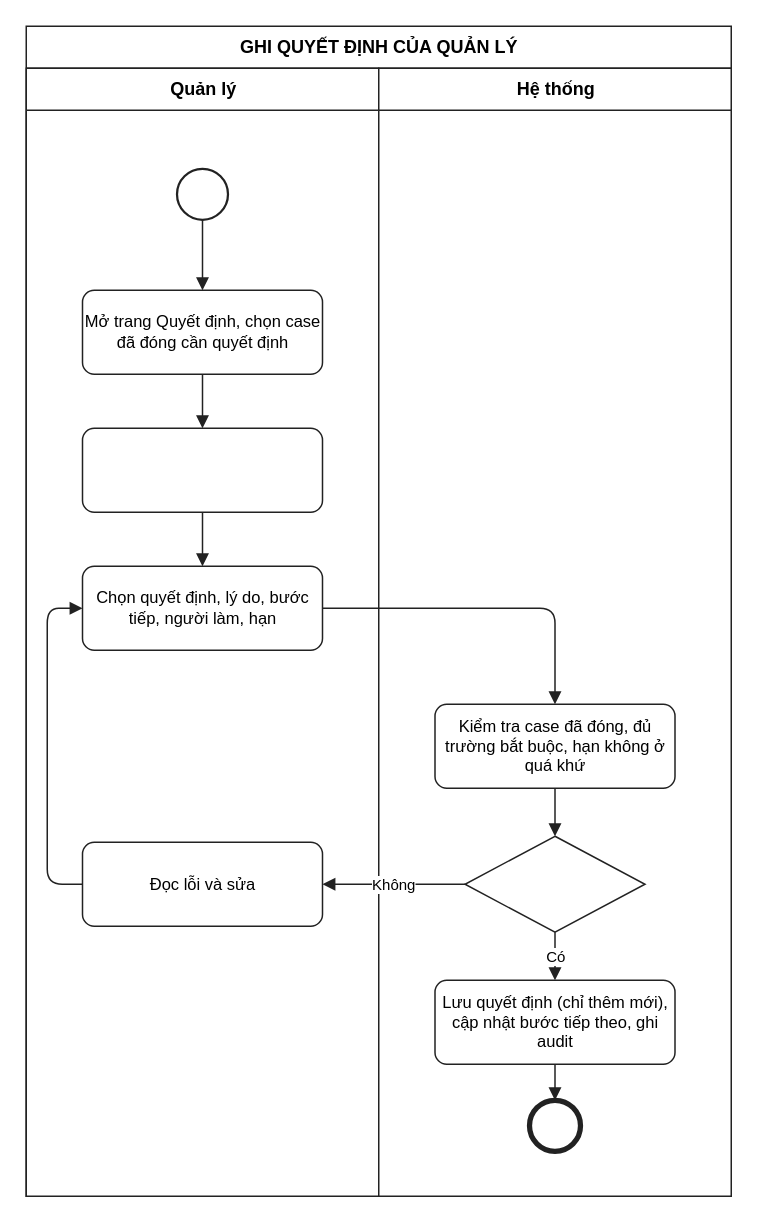
The diagram is 758 pixels wide and 1223 high, and some of its shapes have lost their labels. The box of each missing label's shape, as (x1, y1, x2, y2) in pixels:
Bắt đầu: (175, 167, 228, 220)
Hợp lệ?: (464, 835, 645, 932)
Kết thúc: (526, 1097, 582, 1153)
Đọc lịch sử liên lạc, nhận xét, quyết định trước: (81, 427, 322, 512)
